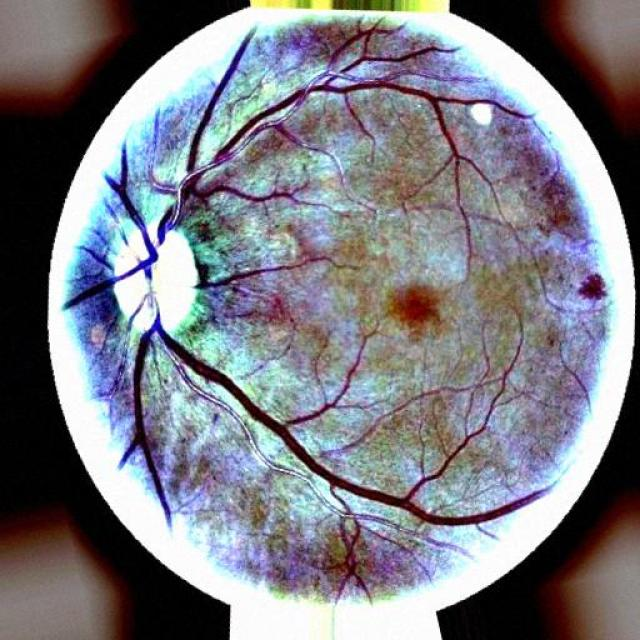Macula: (386, 285, 440, 339)
Nerves: (62, 31, 549, 601)
Optic Disk: (112, 221, 198, 334), (112, 225, 148, 275)
